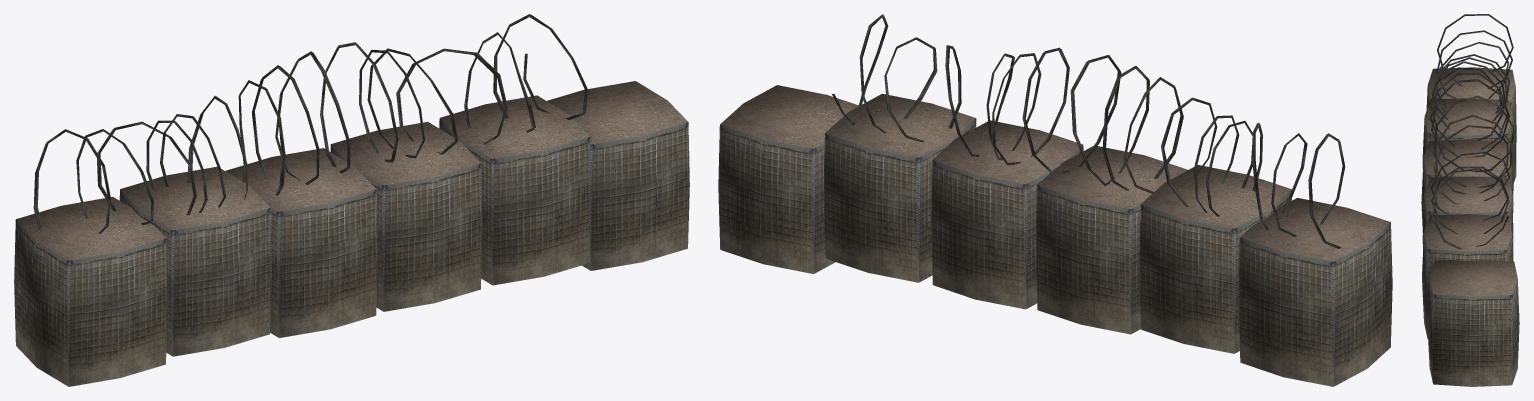
Rendered from DaShaBao.FBX.
3 renders of one model, left to right at view 1: azimuth 30°, elevation 25°; view 2: azimuth 150°, elevation 25°; view 3: azimuth 270°, elevation 25°, orthographic. The views are drawn at different scales.
Parts seen in each view (by area): view 1: DrawCall_2901; view 2: DrawCall_2901; view 3: DrawCall_2901.
Boxes of the visible parts, x1,y1,x2,y2 form: DrawCall_2901: (14, 14, 689, 386); DrawCall_2901: (718, 14, 1392, 386); DrawCall_2901: (1421, 14, 1519, 386).
Size of the model in its own units: 2017 by 787 by 378.
3 materials, 3 textured.
